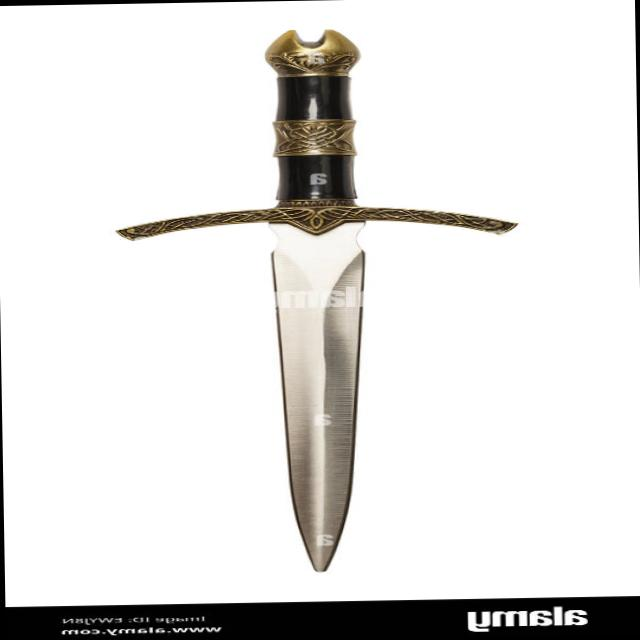Gun: (62, 0, 617, 586)
